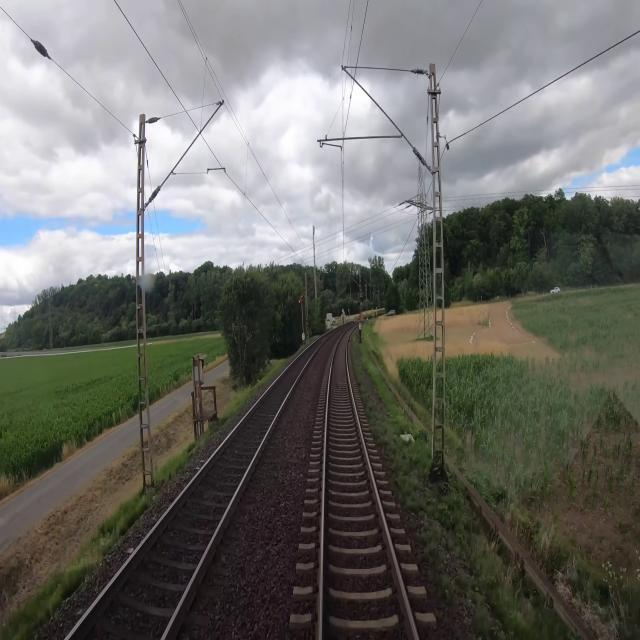Plant: (351, 335, 452, 532), (420, 521, 456, 608), (460, 572, 492, 636)
